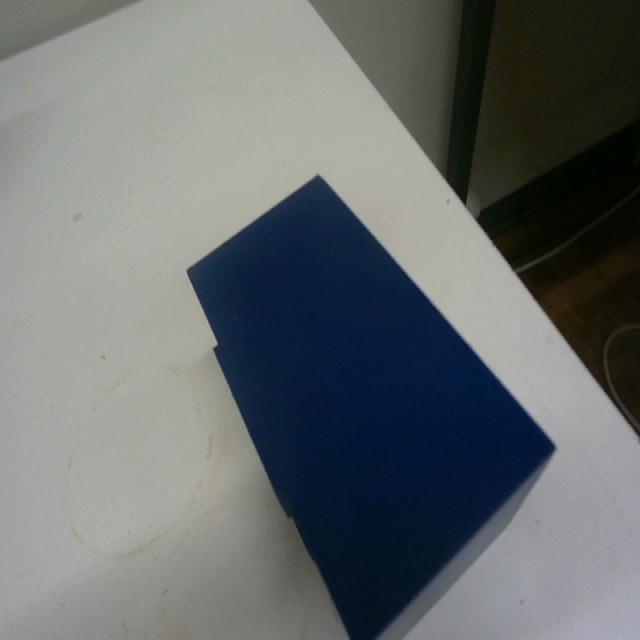Blue Cuboid: (184, 169, 557, 639)
